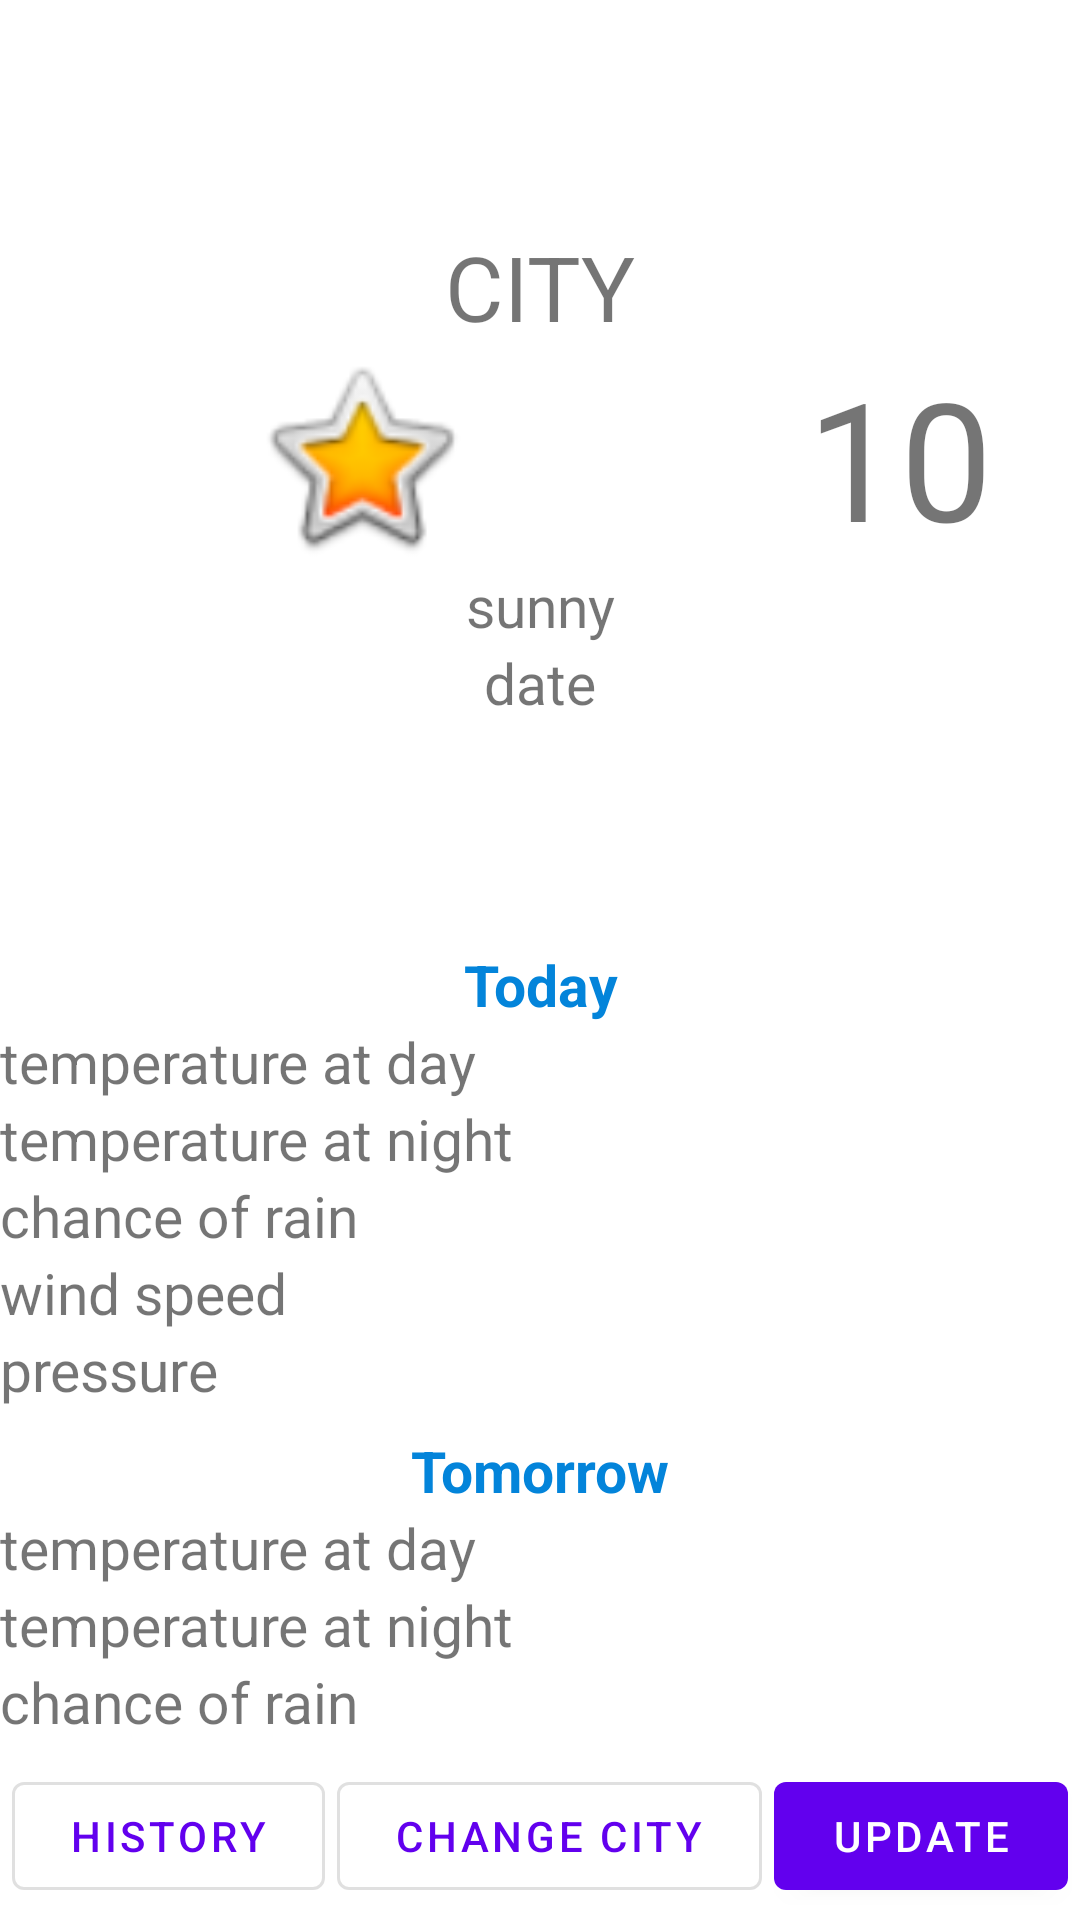

Point at icon controls on the screen. Image size 1080w x 1920h, points as point (x, y).
star on: point (362, 458)
